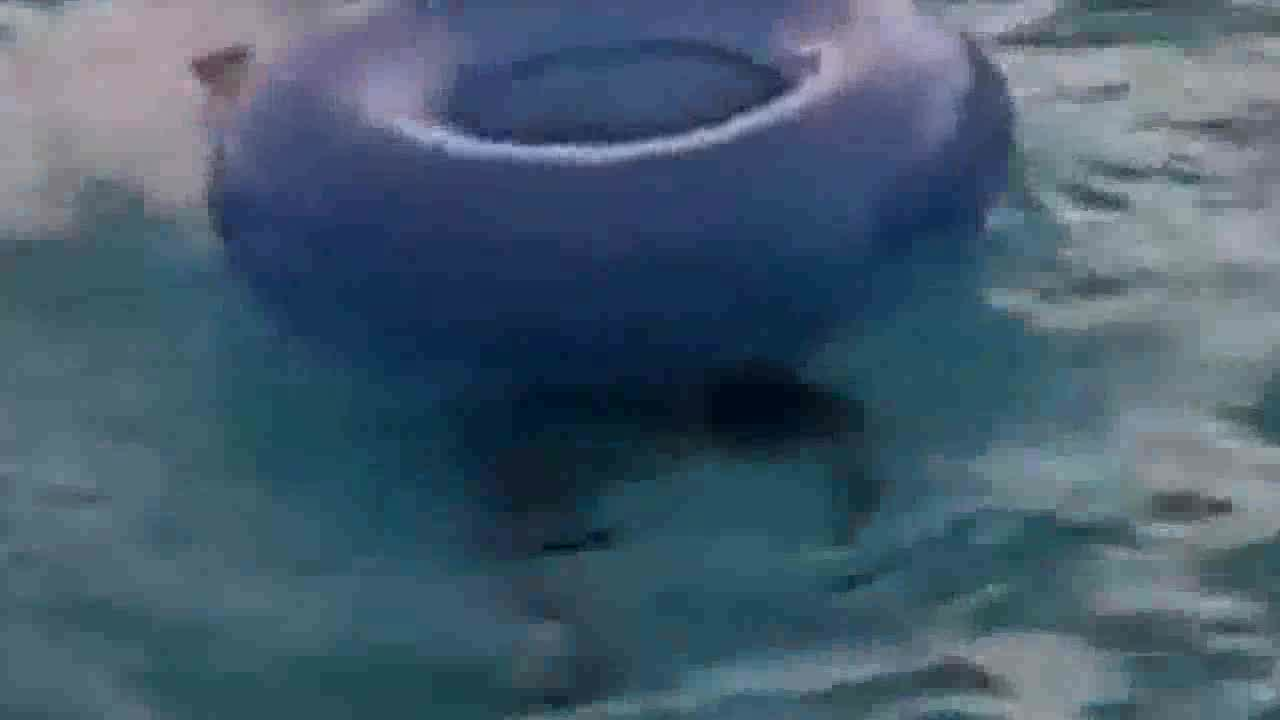Drowning: (401, 299, 926, 650)
